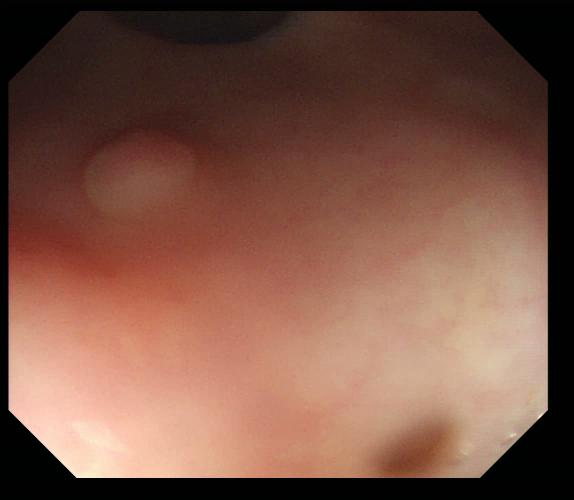polyp: (78, 130, 201, 219)
